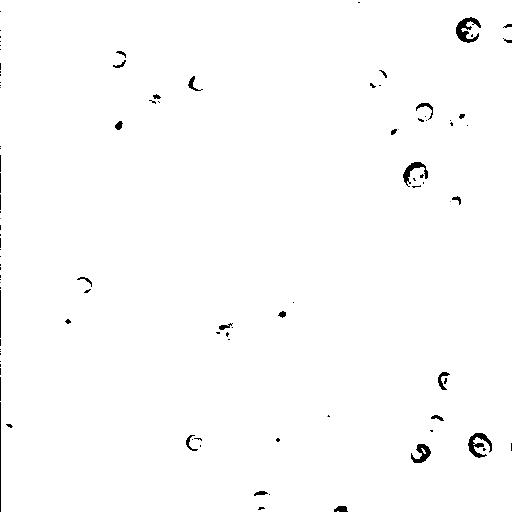micro-algae: (184, 277, 266, 355), (339, 47, 407, 116), (480, 422, 511, 495), (346, 107, 391, 155), (369, 8, 413, 56), (412, 455, 455, 500), (10, 259, 51, 300), (448, 99, 480, 138), (100, 109, 129, 142), (266, 421, 297, 449), (401, 159, 428, 191), (468, 430, 493, 461), (266, 299, 294, 326), (455, 16, 481, 45), (382, 116, 407, 145), (121, 340, 149, 365), (59, 309, 82, 338), (1, 405, 23, 435), (250, 488, 274, 510), (187, 69, 206, 96), (413, 99, 433, 123), (411, 442, 431, 465), (71, 275, 93, 295), (367, 68, 388, 88), (437, 370, 457, 391), (109, 49, 128, 71), (224, 322, 240, 346), (185, 433, 205, 451), (426, 413, 445, 431), (341, 0, 367, 11), (499, 21, 511, 43), (447, 195, 462, 211), (331, 501, 349, 512), (505, 437, 511, 454)
